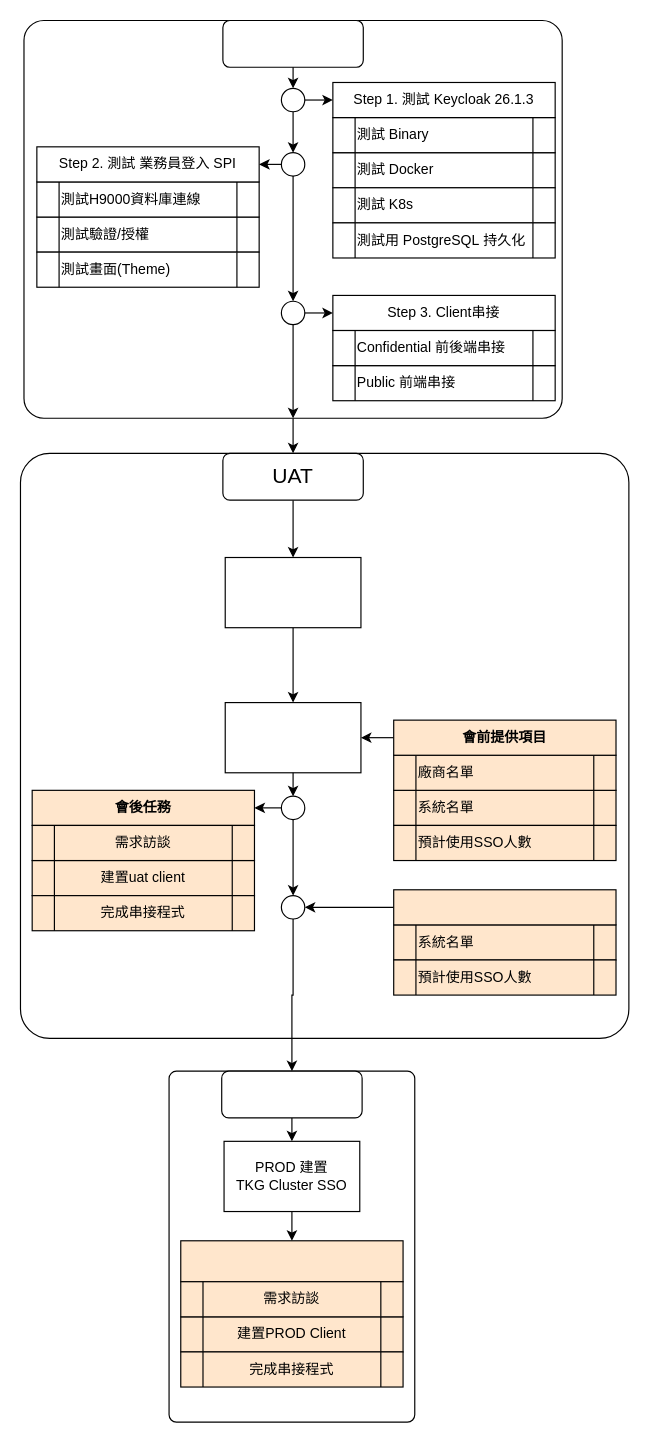
Image size: 649x1443. Some labels were removed from this diagram. Here are the shapes that lost their labels. From the top down, the centre of each, then its label:
At (x=292, y=43): "DEV".
At (x=292, y=592): "UAT 建置 TKG Cluster SSO".
At (x=292, y=737): "DEMO會議".
At (x=504, y=907): "PROD 準備提供項目".
At (x=291, y=1094): "PROD".
At (x=291, y=1261): "任務".
